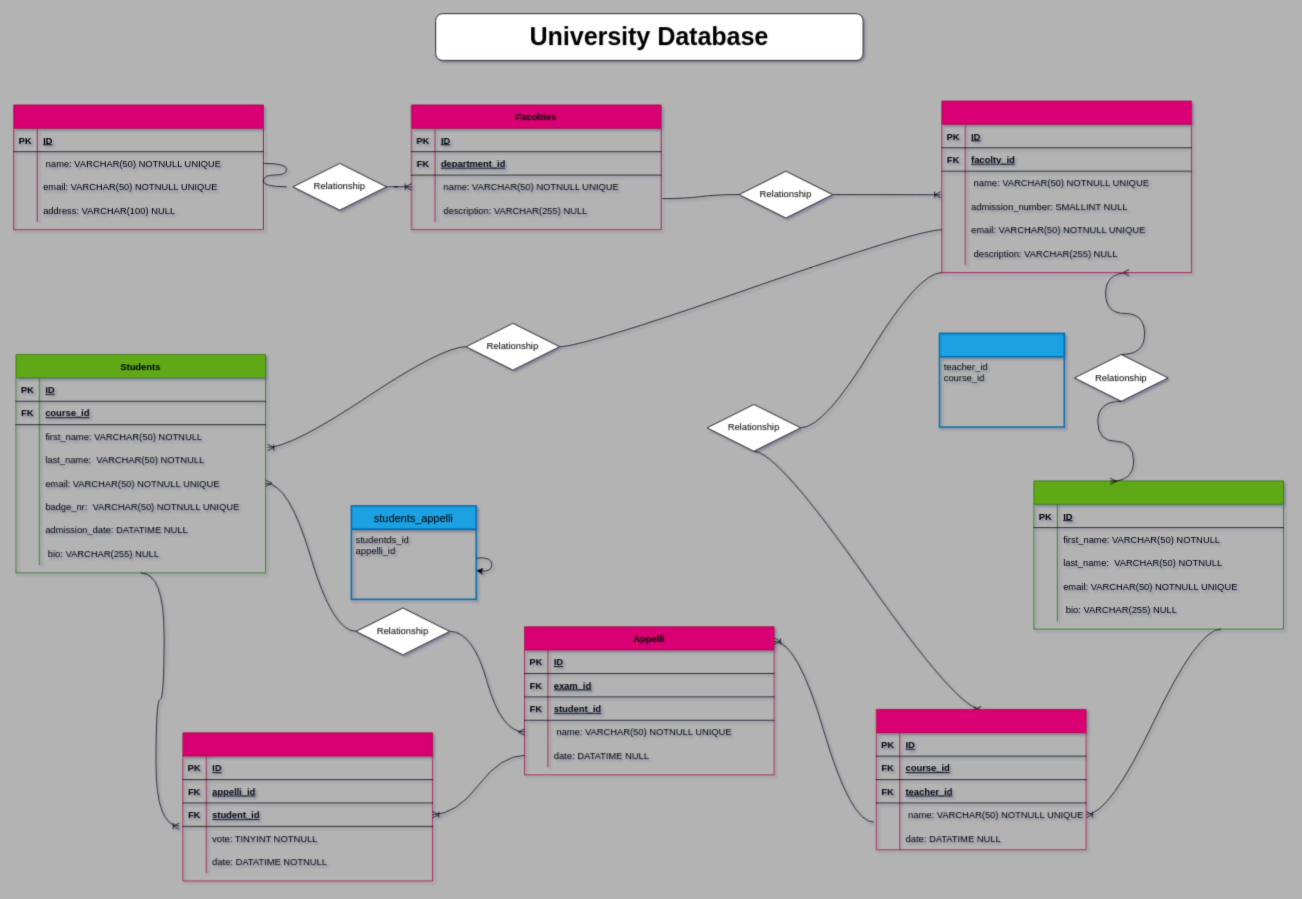
Some shapes in this 1302 by 899 pixel diagram are drawn without their labels. Here are the shapes that lost their labels. From the top down, the box of each, then its label:
(13, 104, 263, 230): Dipartiments
(941, 100, 1191, 273): Courses
(938, 332, 1065, 427): teachers_courses
(1033, 480, 1283, 629): Teachers
(876, 709, 1086, 850): Exams
(182, 732, 433, 881): Votes
